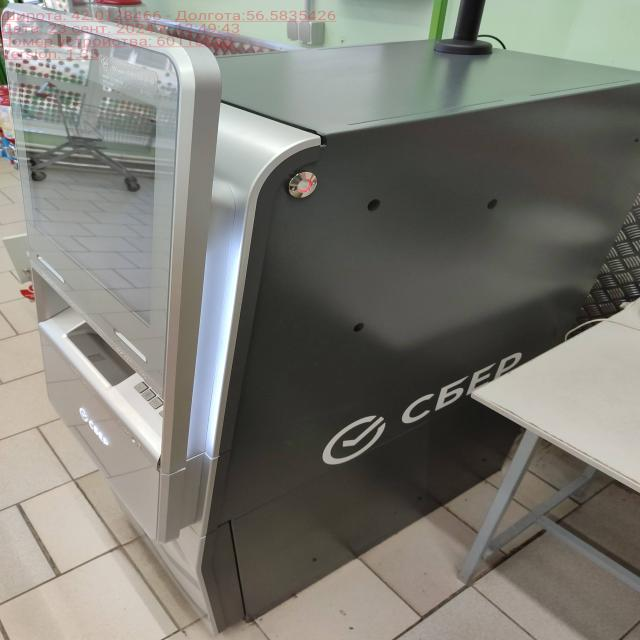bank: (0, 4, 640, 632)
